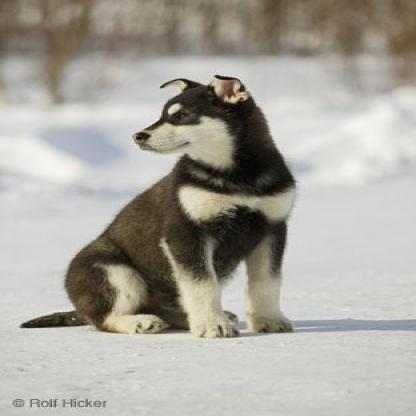Eskimo_dog: (13, 69, 294, 337)
